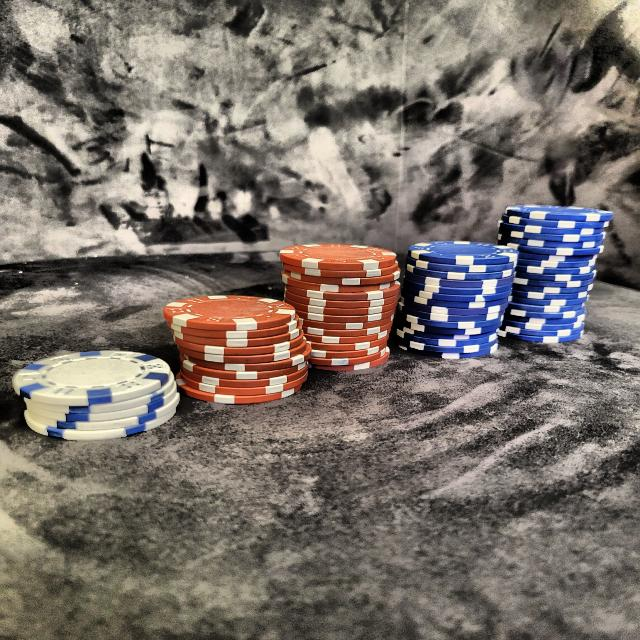Chip: (274, 221, 399, 385), (22, 330, 188, 450), (162, 280, 312, 408), (499, 193, 610, 355), (399, 229, 518, 370)
